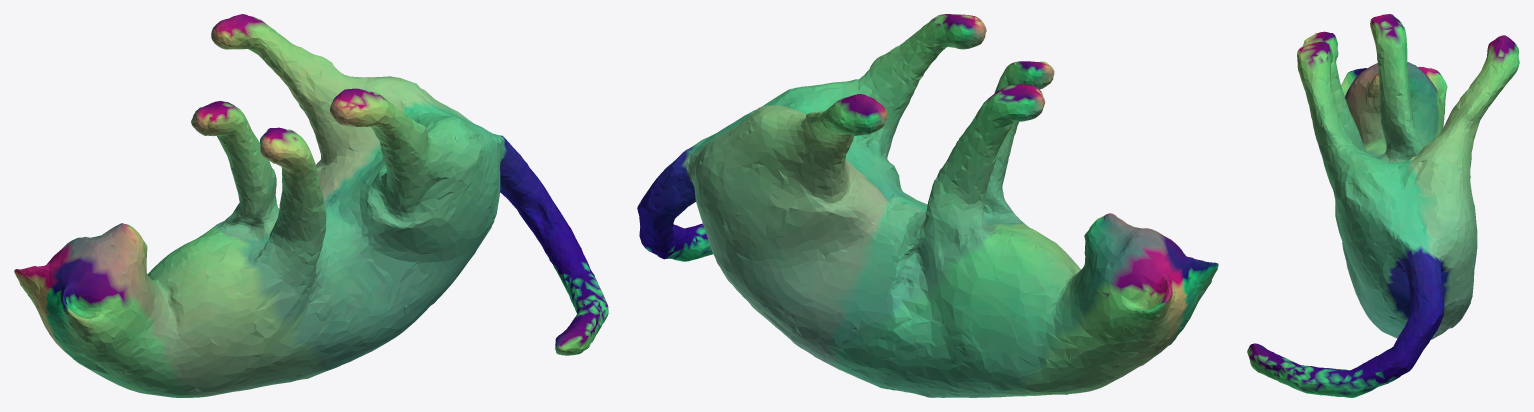
File: cat-2.off.obj
3 views of the same model, side by side, from view 1: azimuth 30°, elevation 25°; view 2: azimuth 150°, elevation 25°; view 3: azimuth 270°, elevation 25° (orthographic). The views are drawn at different scales.
Bounding box in the file's own units: 1.71 × 0.9892 × 0.8648.
